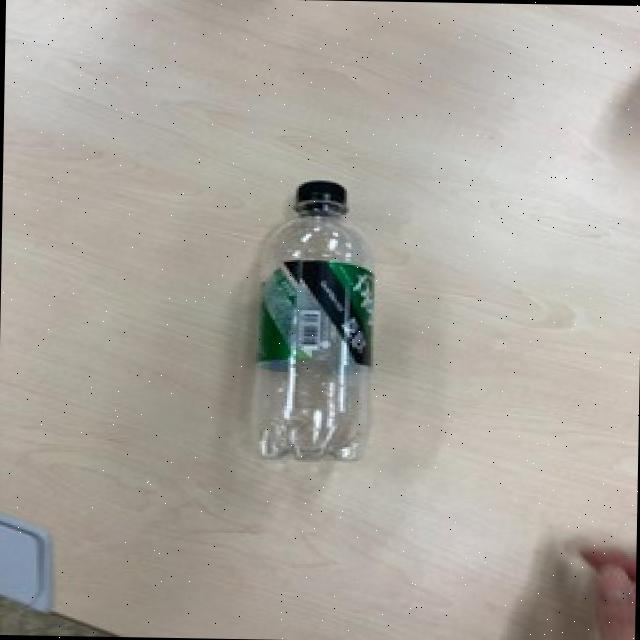bottle: (247, 171, 382, 473)
cap: (292, 178, 352, 214)
label: (248, 272, 394, 362)
